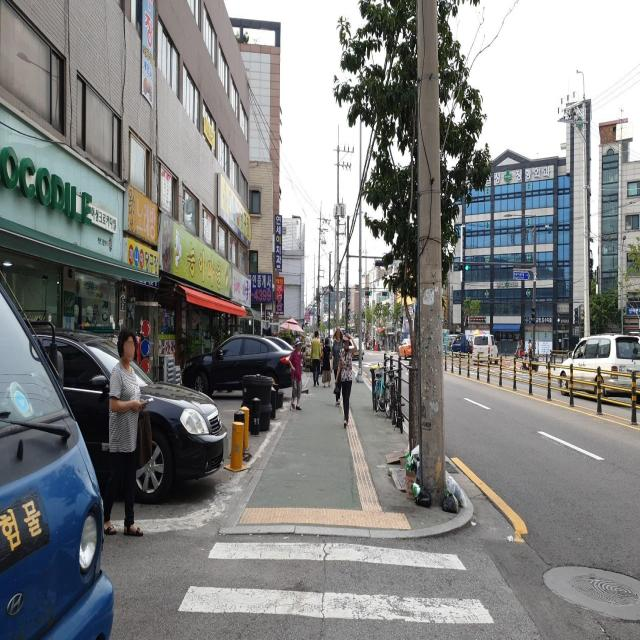횡단보도: (177, 540, 495, 626)
